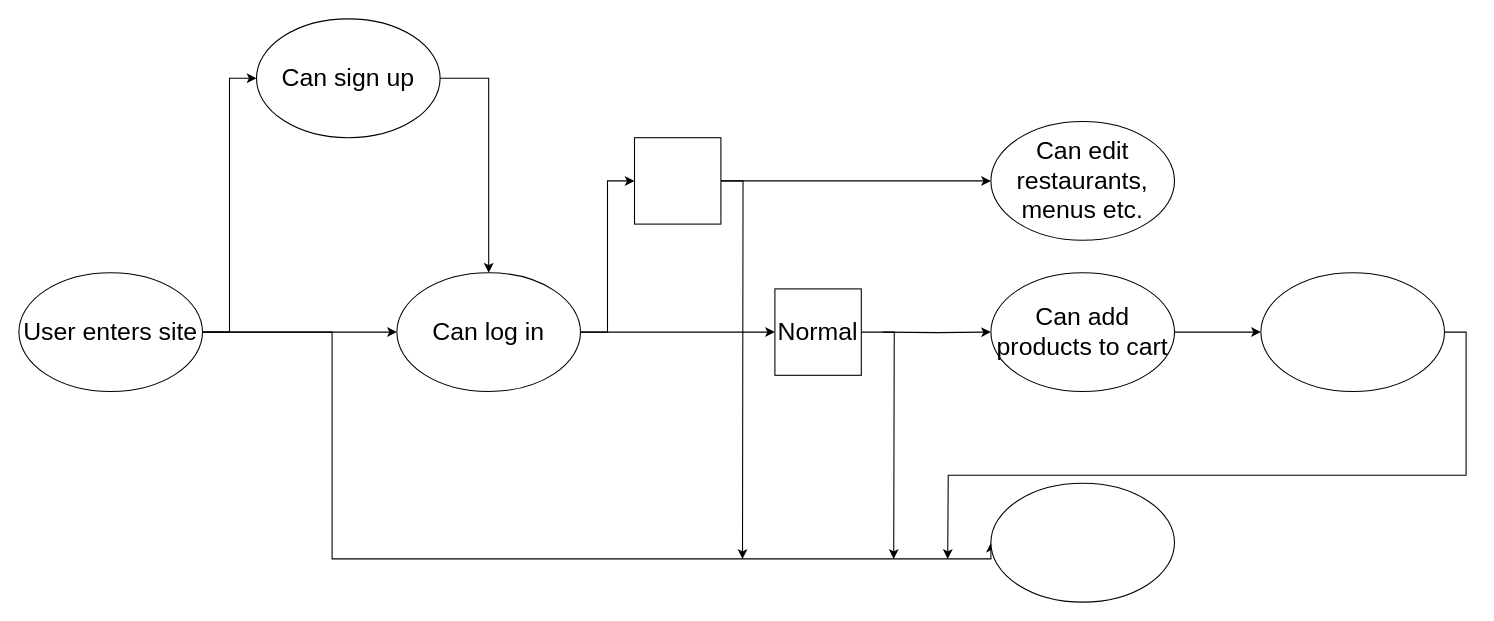
This 1494x621 diagram has some shape labels left out. Here are the shapes that lost their labels. From the top down, the centre of each, then its label:
At (677,180): "Admin".
At (1352,332): "Can finish or cancel order".
At (1082,542): "Can browse".
